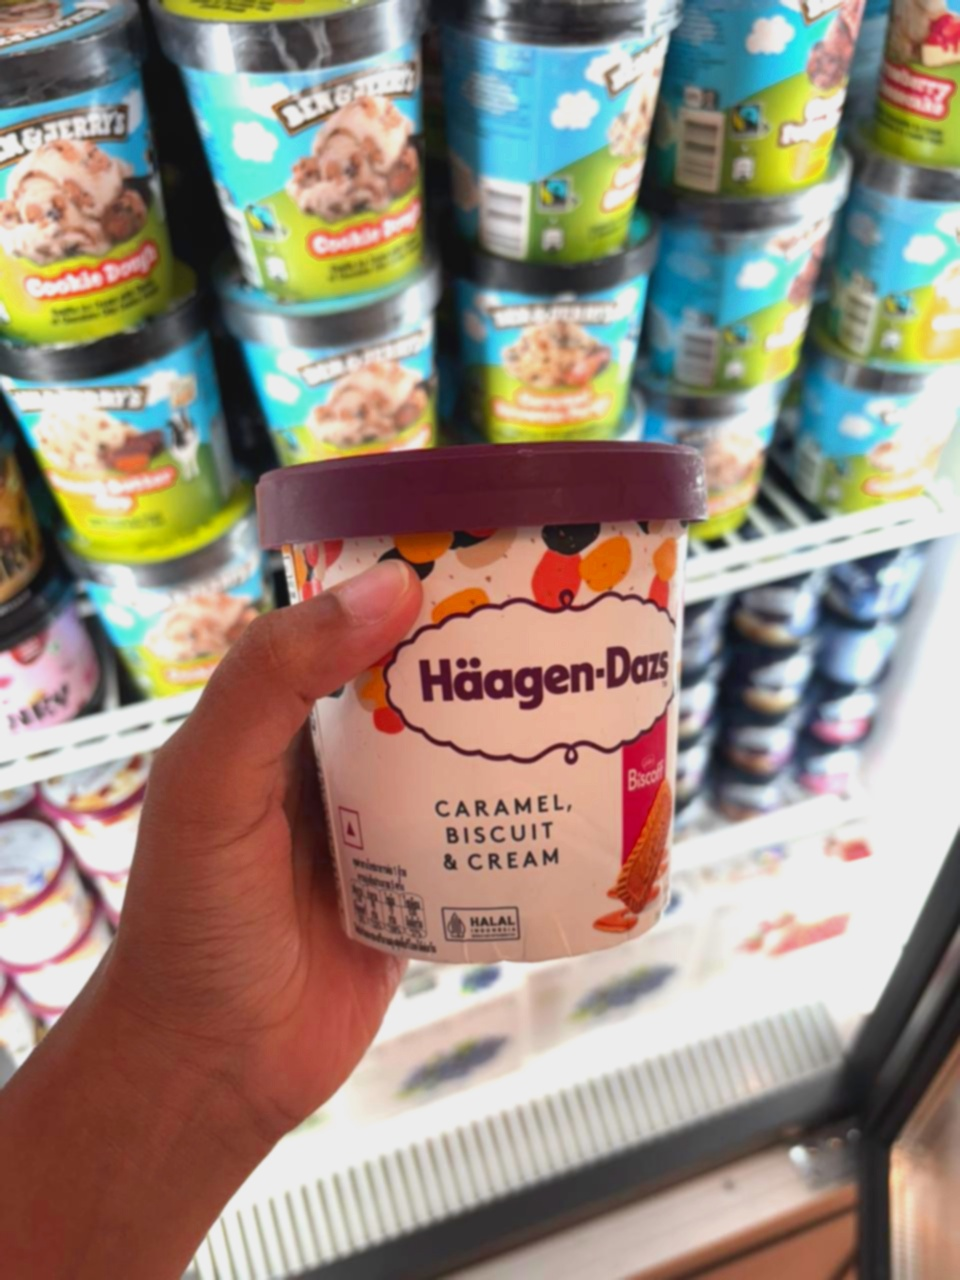Haagen-Dazs IceCream Tub: (235, 428, 728, 1004)
